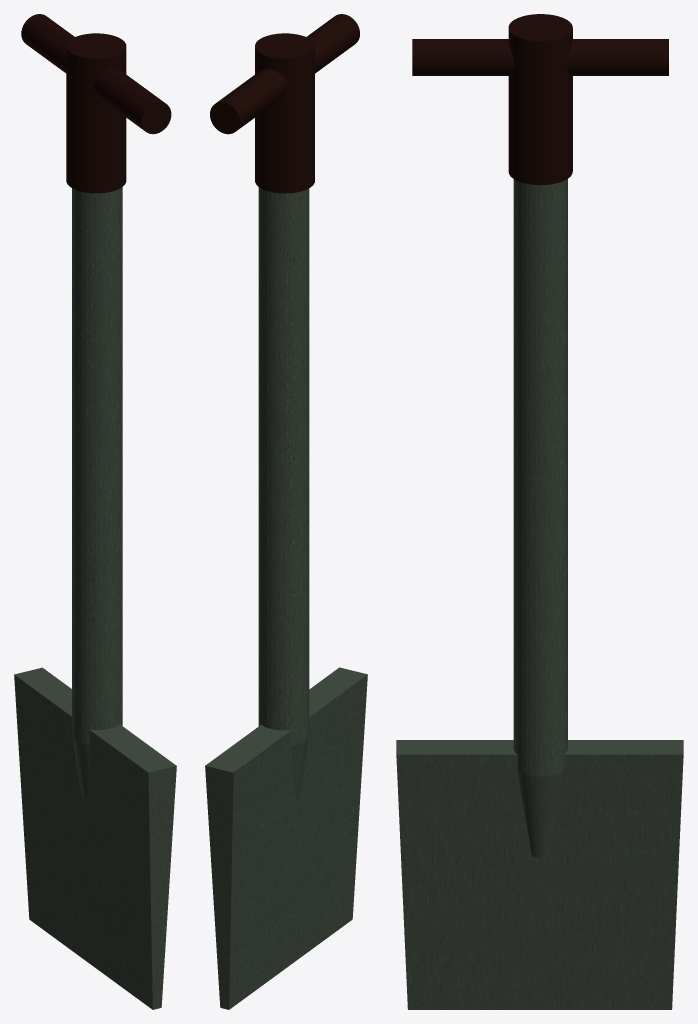
Rendered from Shovel.obj.
3 renders of one model, left to right at view 1: azimuth 30°, elevation 25°; view 2: azimuth 150°, elevation 25°; view 3: azimuth 270°, elevation 25°, orthographic. The views are drawn at different scales.
Visible parts, largest first — view 1: Cylinder.001, Cylinder_Cylinder.002; view 2: Cylinder.001, Cylinder_Cylinder.002; view 3: Cylinder.001, Cylinder_Cylinder.002.
Boxes of the visible parts, x1=… form: Cylinder.001: x1=14, y1=187, x2=176, y2=1009; Cylinder_Cylinder.002: x1=21, y1=14, x2=171, y2=193; Cylinder.001: x1=205, y1=187, x2=367, y2=1009; Cylinder_Cylinder.002: x1=210, y1=14, x2=359, y2=193; Cylinder.001: x1=396, y1=179, x2=683, y2=1009; Cylinder_Cylinder.002: x1=412, y1=14, x2=668, y2=185.
Bounding box in the file's own units: 0.4479 × 7.53 × 2.
